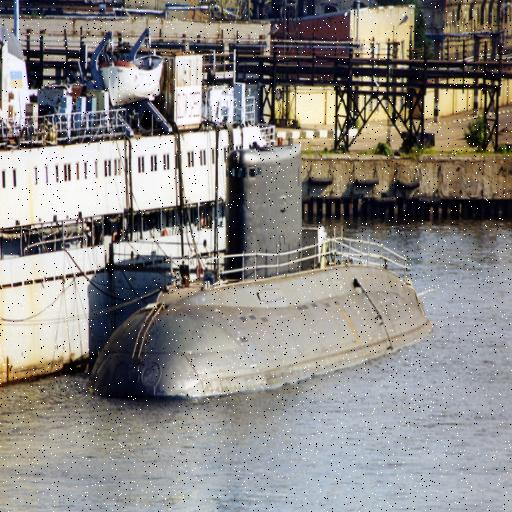submarine: (87, 140, 433, 400)
